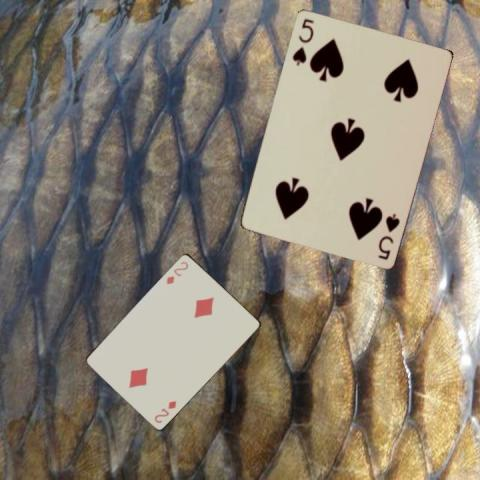2d: (163, 258, 190, 285), (151, 397, 178, 424)
5s: (289, 15, 315, 66), (375, 210, 401, 261)
